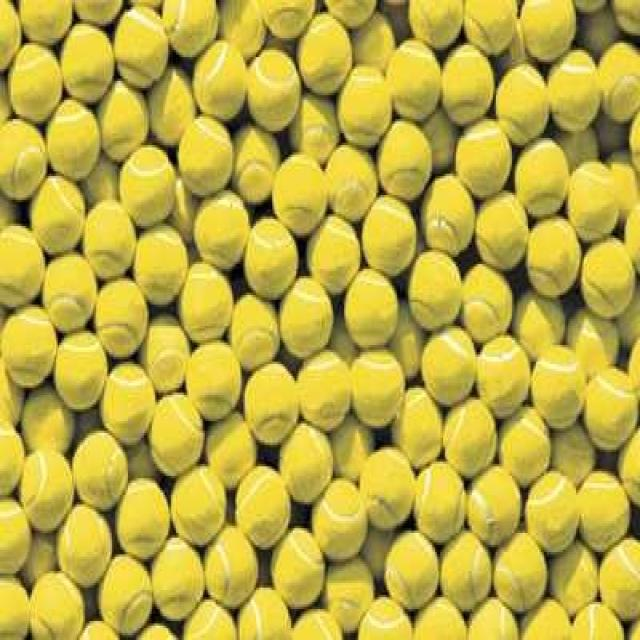Tennis_Ball: (278, 276, 335, 366), (295, 352, 353, 433), (457, 119, 515, 199), (464, 467, 522, 547), (527, 470, 582, 553), (95, 80, 152, 159), (548, 52, 607, 128), (178, 114, 233, 195), (150, 400, 205, 480), (585, 366, 638, 449), (246, 361, 300, 442), (272, 530, 328, 608), (517, 140, 572, 218), (309, 217, 360, 300), (22, 573, 85, 640), (105, 364, 161, 439), (382, 532, 438, 607), (586, 237, 634, 324), (312, 482, 366, 559), (28, 175, 81, 253), (54, 501, 110, 574), (343, 271, 396, 348), (52, 507, 105, 584), (411, 245, 457, 333), (463, 264, 513, 344), (190, 36, 238, 119), (498, 404, 551, 479), (391, 43, 446, 115), (186, 344, 241, 416), (567, 168, 619, 244), (353, 352, 405, 428), (279, 428, 331, 504), (97, 275, 147, 354), (237, 474, 294, 543), (21, 456, 74, 530), (498, 55, 542, 144), (2, 299, 48, 384), (116, 483, 166, 561), (379, 123, 433, 195), (534, 355, 581, 436), (444, 397, 498, 467), (121, 150, 171, 225), (480, 341, 530, 416), (414, 466, 462, 544), (364, 199, 418, 268), (366, 446, 412, 527), (153, 540, 202, 616), (195, 190, 248, 260), (171, 464, 224, 534), (445, 39, 493, 116), (340, 62, 386, 142), (577, 470, 623, 550), (75, 436, 126, 508), (100, 556, 151, 628), (255, 50, 302, 128), (150, 71, 197, 149), (250, 222, 297, 300), (83, 201, 130, 278), (396, 385, 440, 467), (569, 314, 622, 382), (43, 253, 88, 333), (426, 174, 475, 247), (54, 338, 105, 408), (0, 120, 46, 196), (52, 101, 97, 177), (512, 300, 565, 364), (145, 324, 195, 391), (208, 422, 257, 490), (323, 147, 375, 211), (188, 342, 237, 409), (424, 334, 475, 398), (209, 531, 257, 598), (444, 534, 491, 602), (137, 229, 182, 300), (521, 0, 576, 58), (118, 12, 161, 86), (65, 32, 110, 102), (25, 388, 71, 455), (571, 164, 614, 235), (534, 222, 576, 294), (281, 162, 326, 229), (597, 542, 640, 612), (12, 48, 58, 113), (465, 0, 521, 52), (186, 263, 225, 336), (606, 43, 639, 129), (239, 133, 281, 200), (0, 224, 37, 298), (234, 300, 277, 362), (484, 196, 526, 259), (299, 94, 337, 162), (177, 596, 241, 636), (498, 534, 533, 604), (0, 497, 34, 568), (408, 0, 464, 43), (18, 0, 75, 39), (526, 595, 572, 640), (238, 592, 292, 630), (262, 0, 318, 36), (165, 0, 213, 42), (320, 0, 382, 31), (416, 600, 461, 640), (472, 595, 513, 638), (290, 608, 344, 640), (361, 598, 403, 639), (0, 580, 29, 638), (0, 425, 22, 500), (573, 609, 621, 640), (622, 198, 640, 272), (0, 0, 14, 74), (77, 0, 120, 24), (628, 342, 640, 416), (629, 107, 640, 179)
